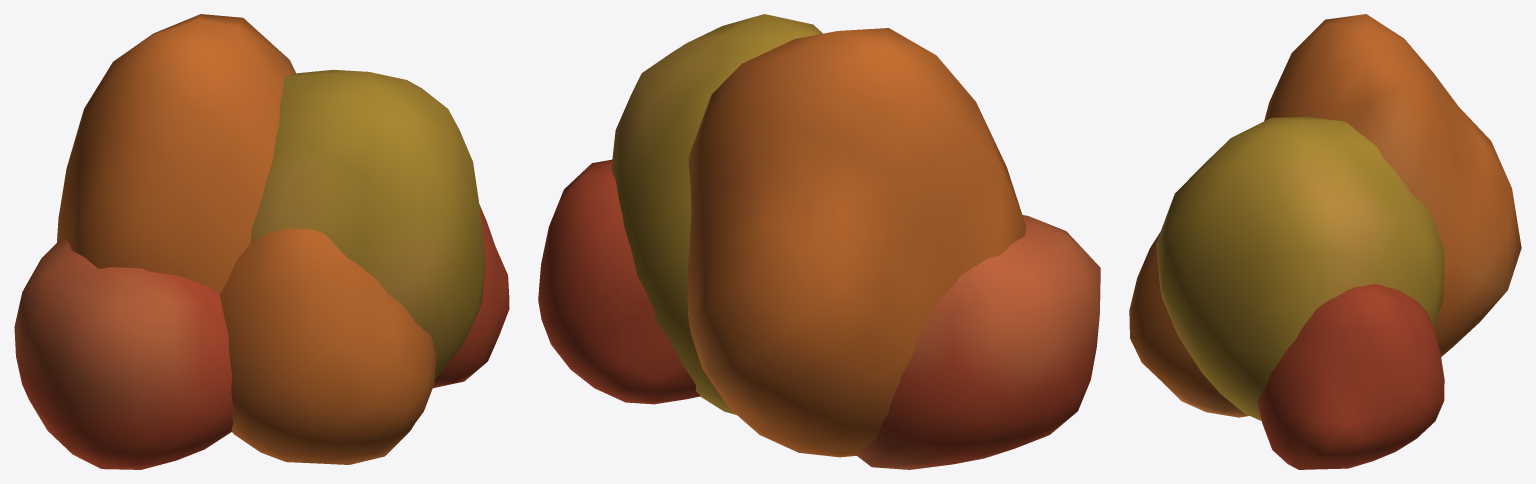
File: decor_buisson_automne_2.glb
3 renders of one model, left to right at view 1: azimuth 30°, elevation 25°; view 2: azimuth 150°, elevation 25°; view 3: azimuth 270°, elevation 25°, orthographic. The views are drawn at different scales.
Visible parts, largest first — view 1: feuillage; view 2: feuillage; view 3: feuillage.
Boxes of the visible parts, left/top/right/bottom form: feuillage: left=14, top=14, right=509, bottom=469; feuillage: left=538, top=14, right=1100, bottom=469; feuillage: left=1129, top=14, right=1521, bottom=469.
Size of the model in its own units: 0.2711 by 0.2057 by 0.2156.
